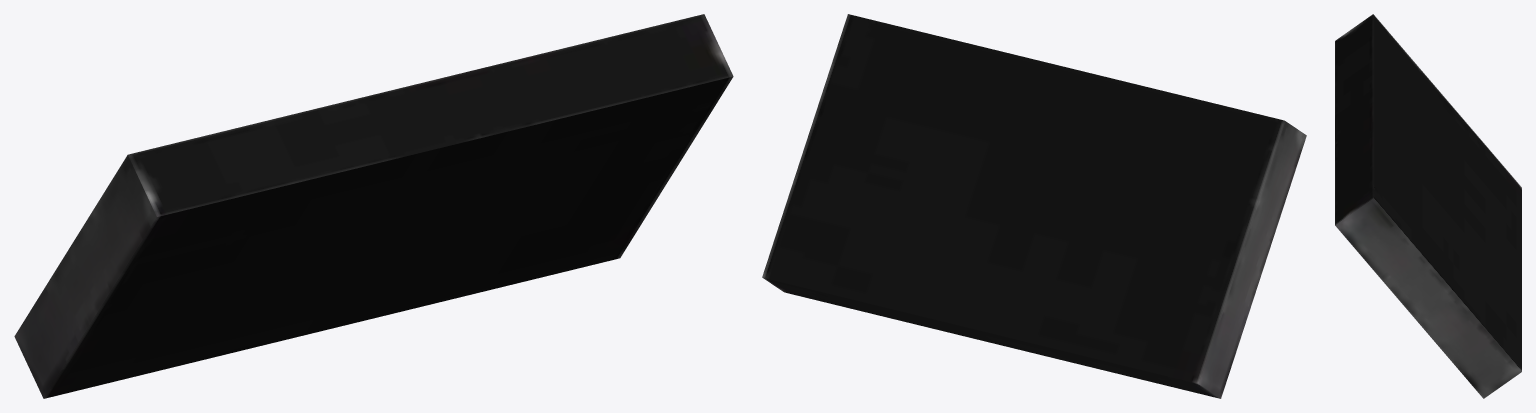
Rendered from support_arm__arm_web.glb.
3 renders of one model, left to right at view 1: azimuth 30°, elevation 25°; view 2: azimuth 150°, elevation 25°; view 3: azimuth 270°, elevation 25°, orthographic. The views are drawn at different scales.
Visible parts, largest first — view 1: geometry_0; view 2: geometry_0; view 3: geometry_0.
Boxes of the visible parts, x1,y1,x2,y2 form: geometry_0: [14, 14, 733, 398]; geometry_0: [762, 14, 1306, 398]; geometry_0: [1335, 14, 1521, 398].
Bounding box in the file's own units: 0.18 × 0.0913 × 0.0771.
1 material, 1 textured.
